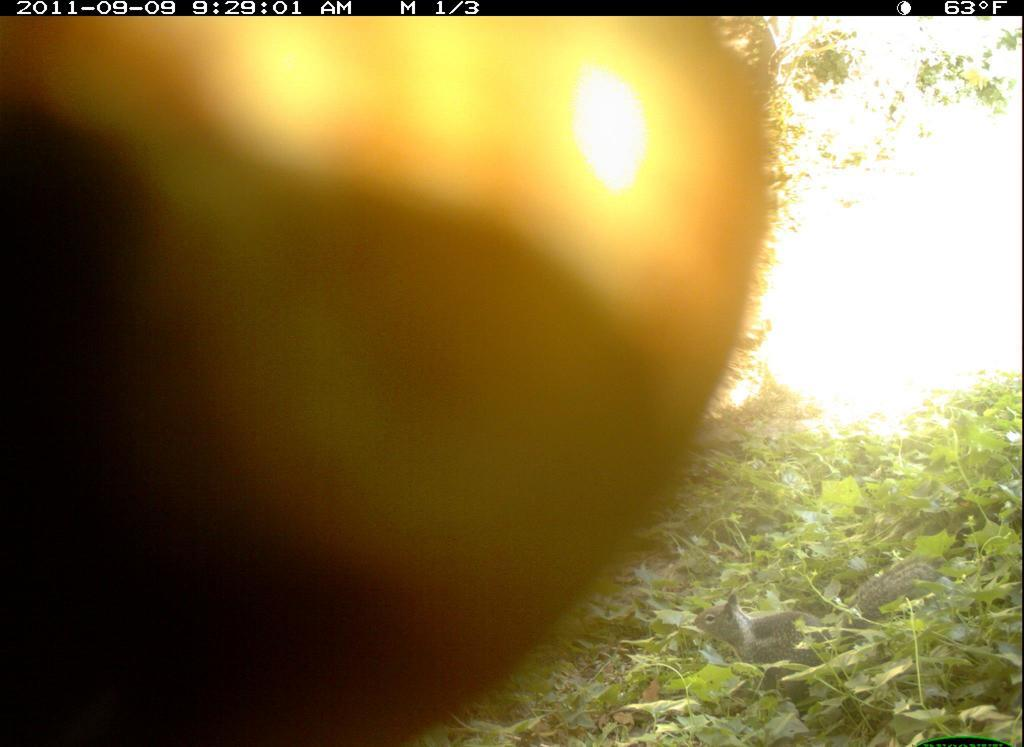squirrel: (4, 16, 818, 744)
